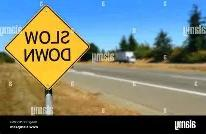Slow: (8, 7, 86, 86)
